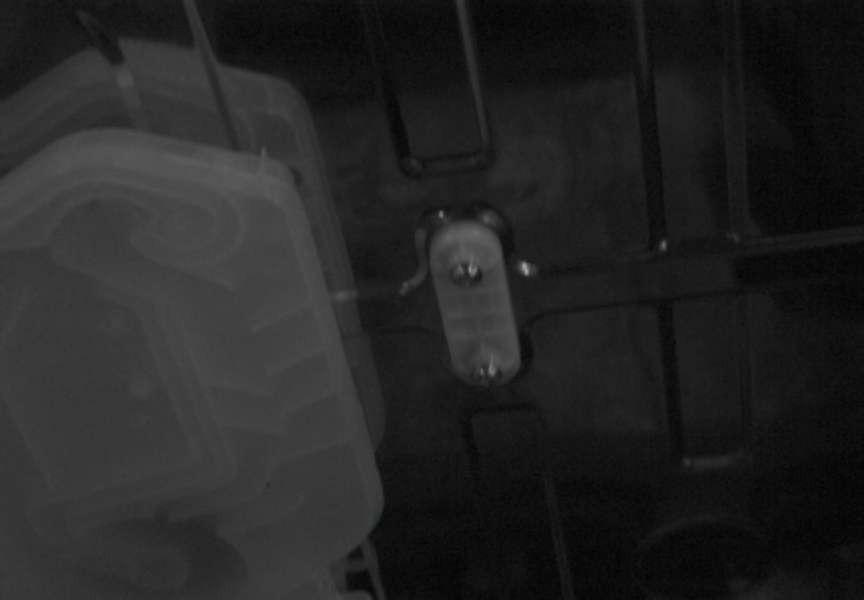screw: (450, 261, 483, 288), (471, 359, 502, 387)
